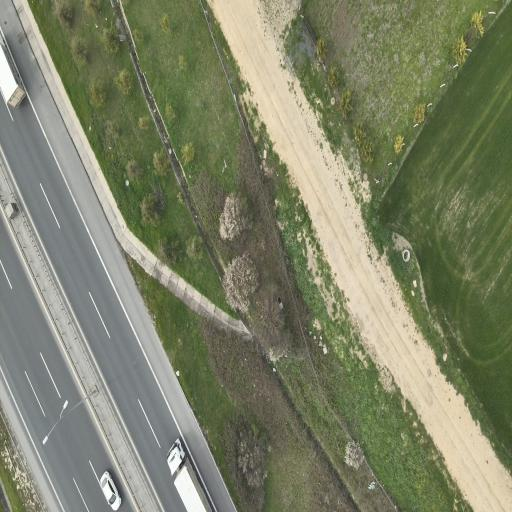car: (168, 439, 211, 511), (0, 28, 25, 107), (100, 471, 121, 511)
